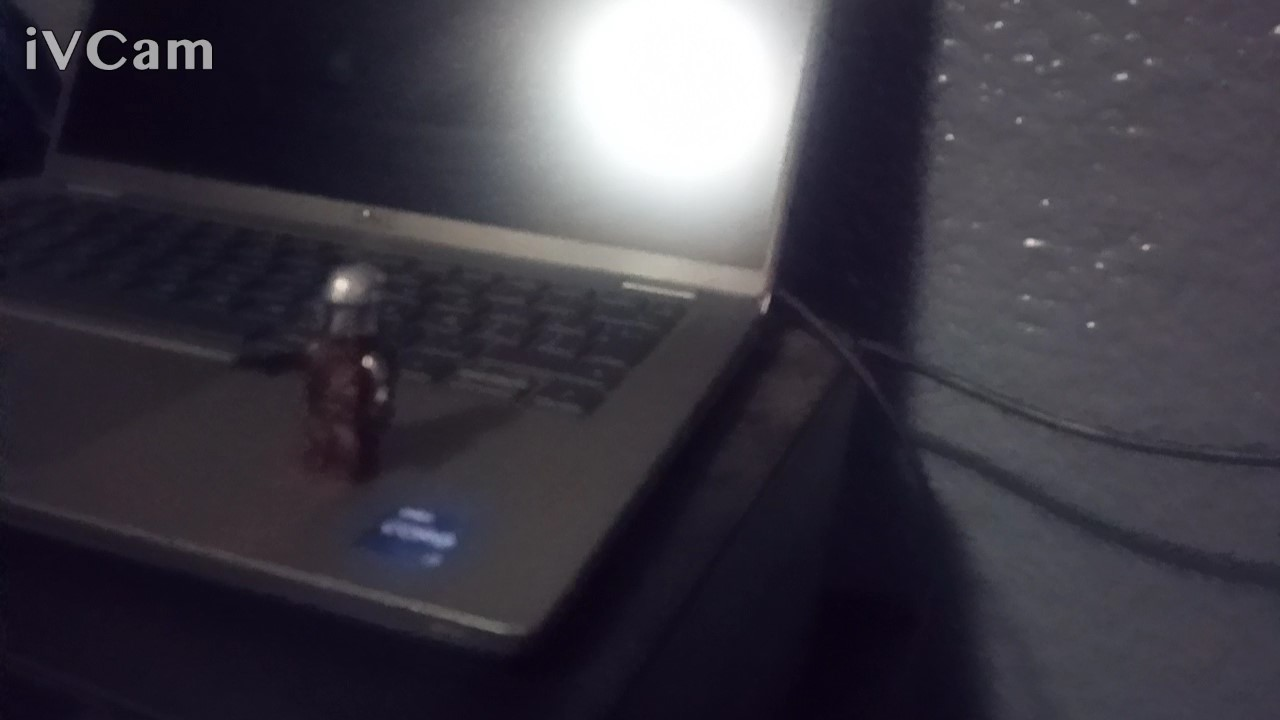mandalorian: (228, 248, 434, 505)
